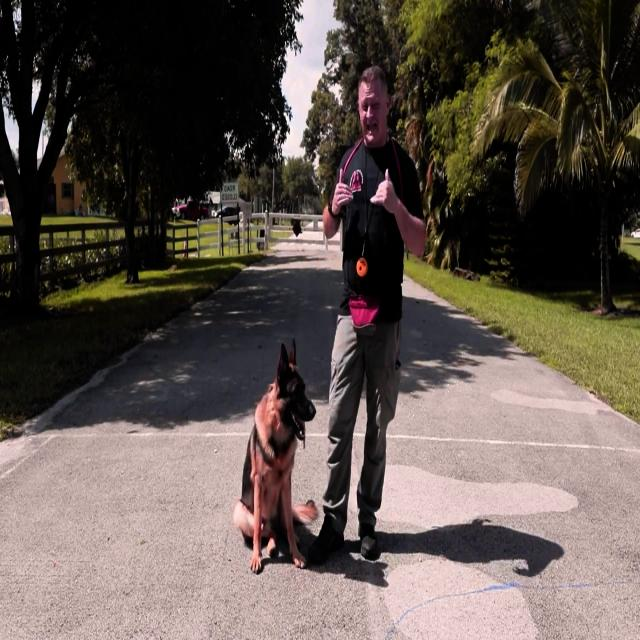Unleashed_Dog: (234, 312, 386, 574)
